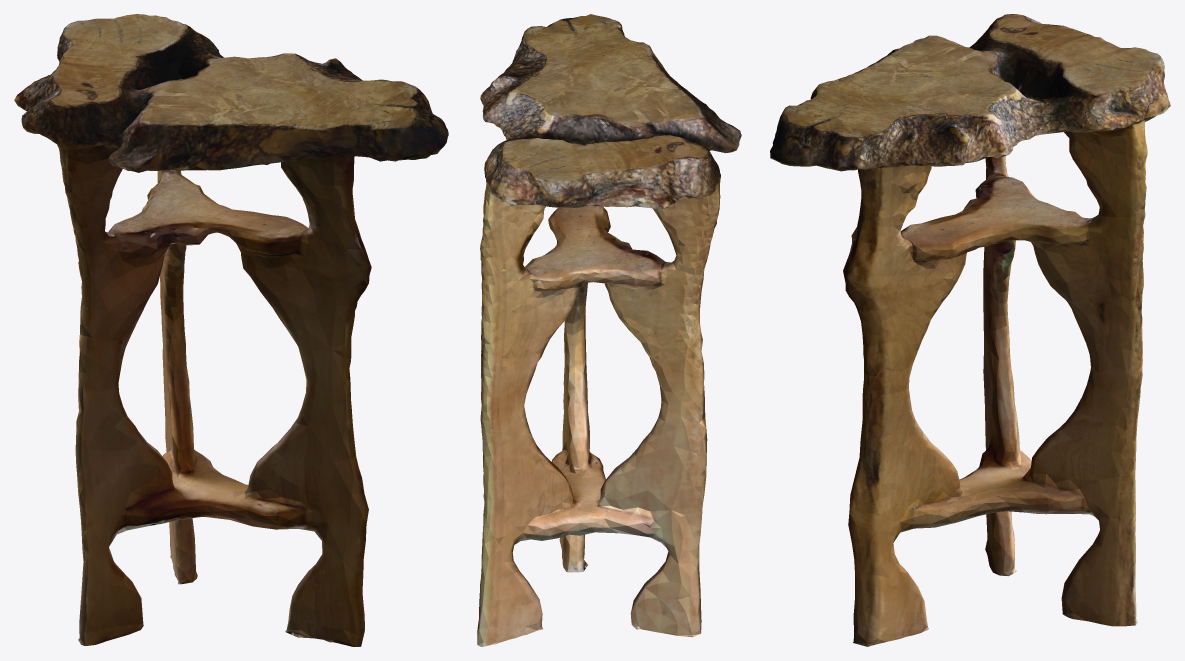
File: plantStandAFixed.glb
3 views of the same model, side by side, from view 1: azimuth 30°, elevation 25°; view 2: azimuth 150°, elevation 25°; view 3: azimuth 270°, elevation 25° (orthographic). The views are drawn at different scales.
Parts seen in each view (by area): view 1: Mesh_0; view 2: Mesh_0; view 3: Mesh_0.
Boxes of the visible parts, bbox=[...] form: Mesh_0: bbox=[14, 14, 448, 646]; Mesh_0: bbox=[477, 14, 741, 646]; Mesh_0: bbox=[770, 14, 1170, 646].
Size of the model in its own units: 0.4545 by 0.7758 by 0.5295.
1 material, 1 textured.
